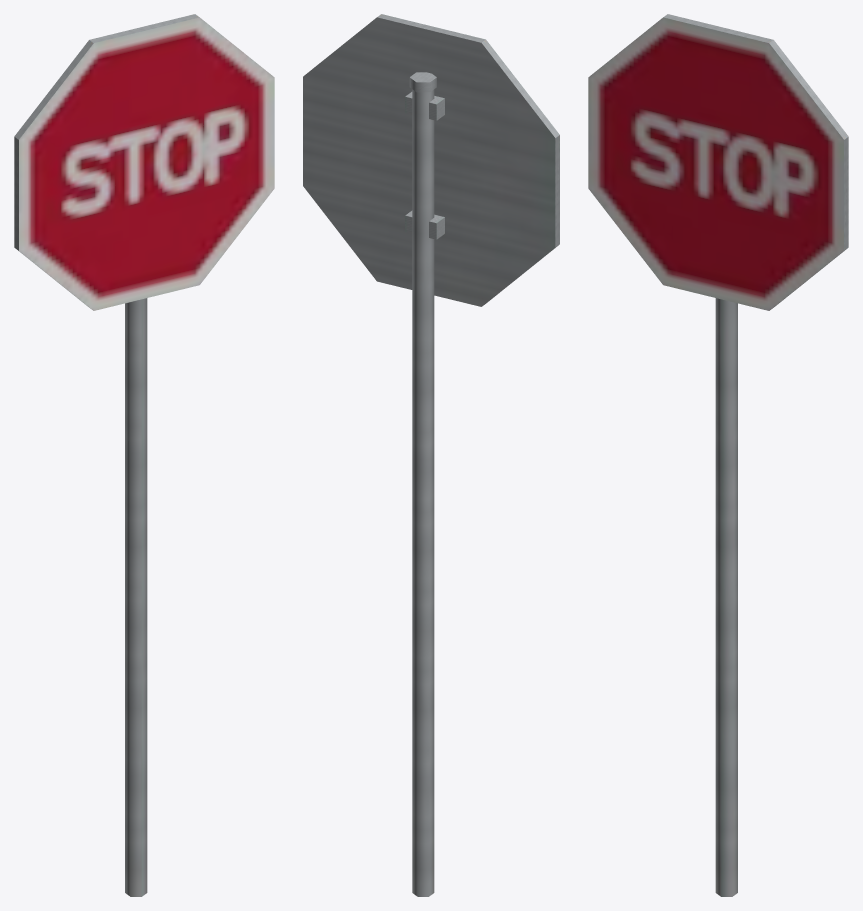
File: panneau_stop_lod1.glb
3 views of the same model, side by side, from view 1: azimuth 30°, elevation 25°; view 2: azimuth 150°, elevation 25°; view 3: azimuth 330°, elevation 25° (orthographic).
Visible parts, largest first — view 1: panneau_stop; view 2: panneau_stop; view 3: panneau_stop.
Part boxes in pixels (left/top/right/bottom): panneau_stop: left=14, top=14, right=274, bottom=896; panneau_stop: left=303, top=14, right=559, bottom=896; panneau_stop: left=588, top=14, right=848, bottom=896.
Bounding box in the file's own units: 0.7999 × 2.6 × 0.0949.
1 material, 1 textured.
